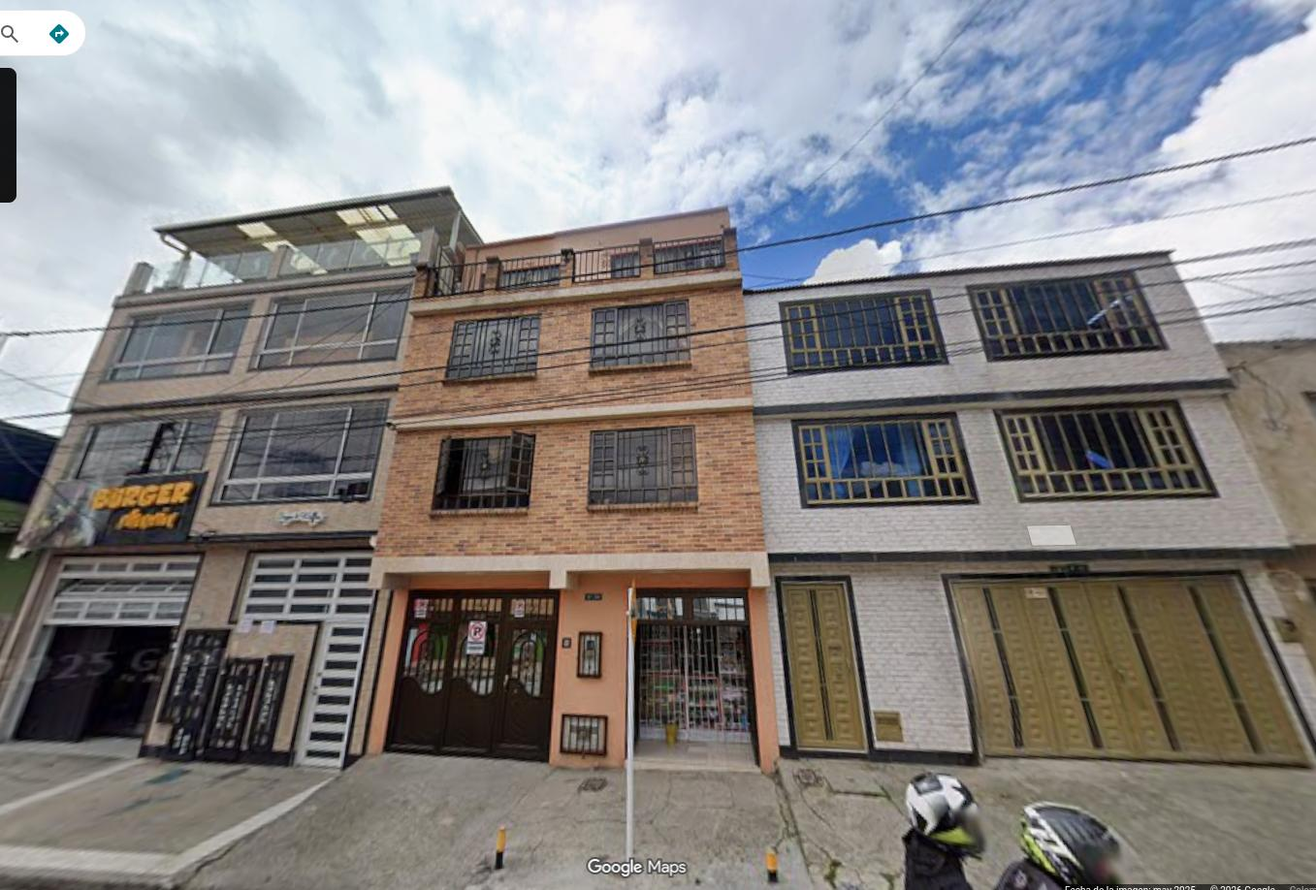casa: (743, 246, 1315, 760), (0, 187, 481, 770), (368, 208, 776, 769)
